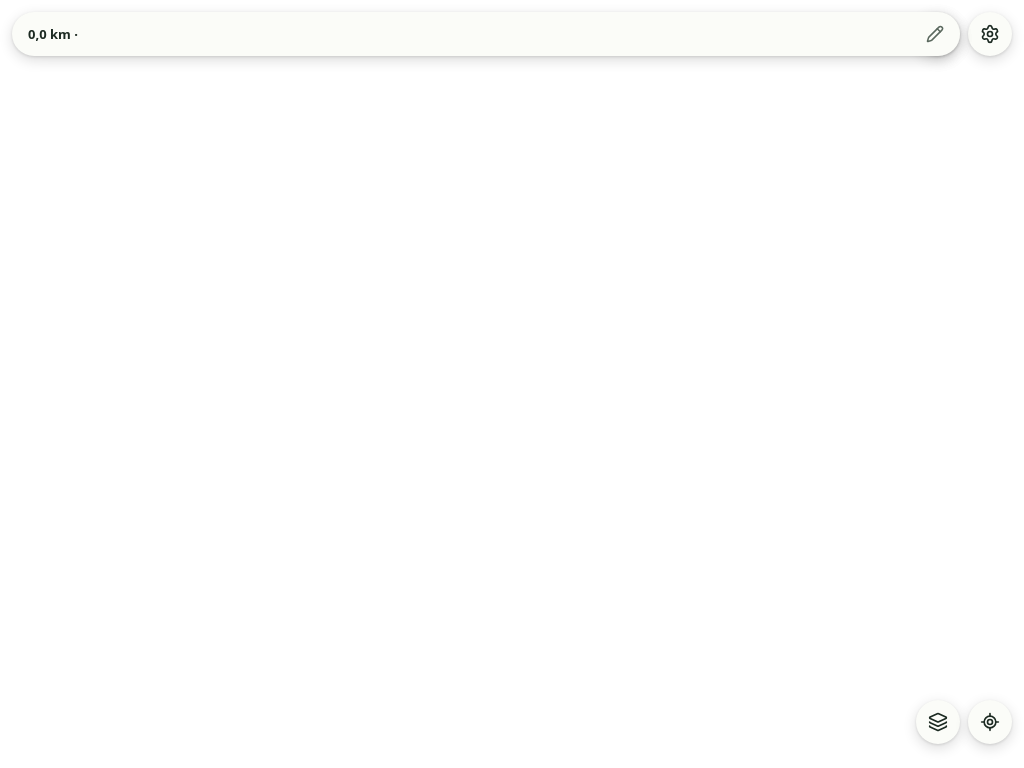
Scenario: CriteriaView › criteria › where the server cannot route › says it in French
This screenshot has width=1024, height=768.
Click the button with test id "criteria-bar". click: {"x": 53, "y": 34}
box: [12, 12, 960, 56]
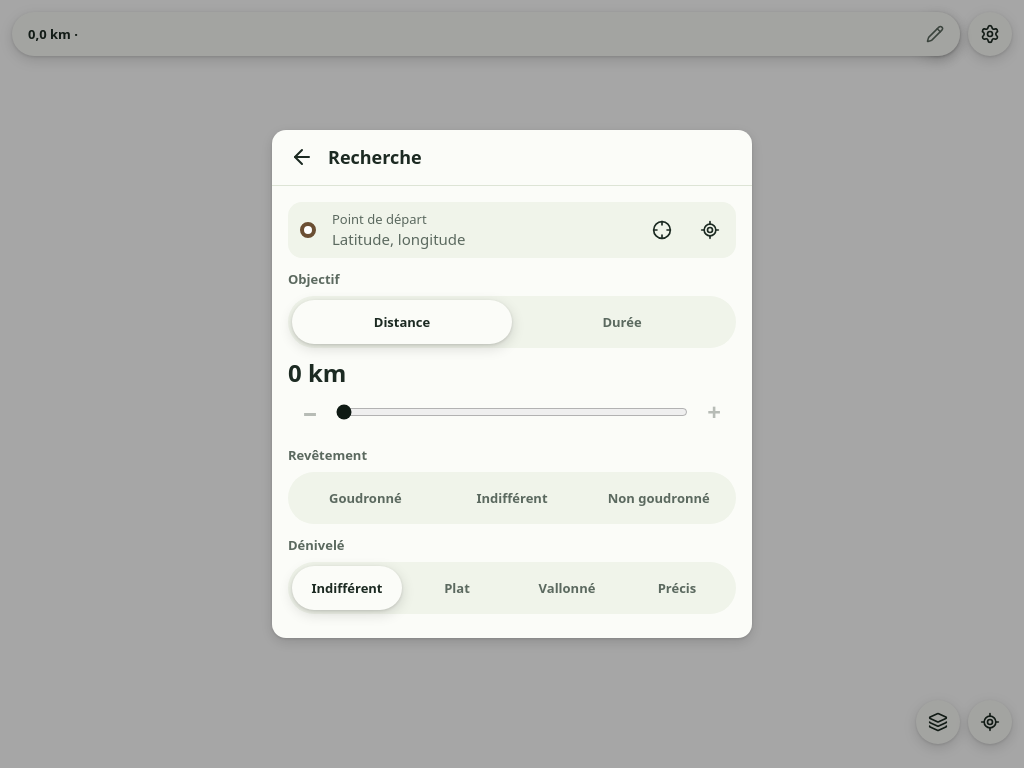
Type "48.8, 2.3" into the field with test id "criteria-start". click: {"x": 478, "y": 239}
box: [332, 228, 624, 250]
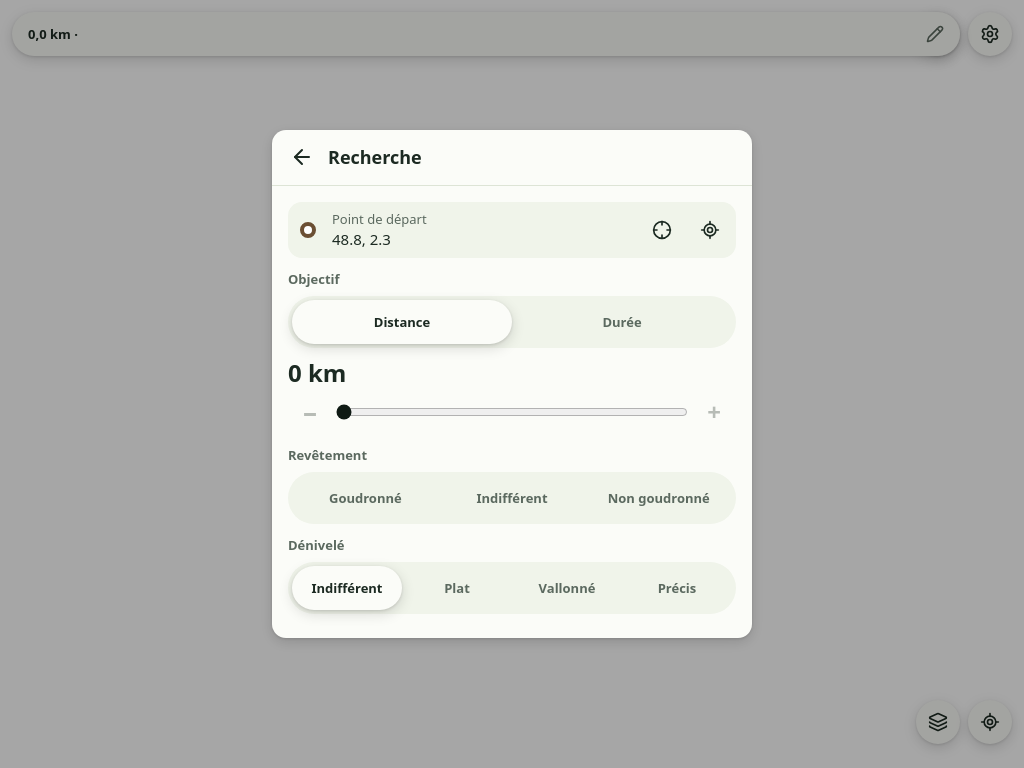
Press Enter in the field with test id "criteria-start", box [332, 228, 624, 250]
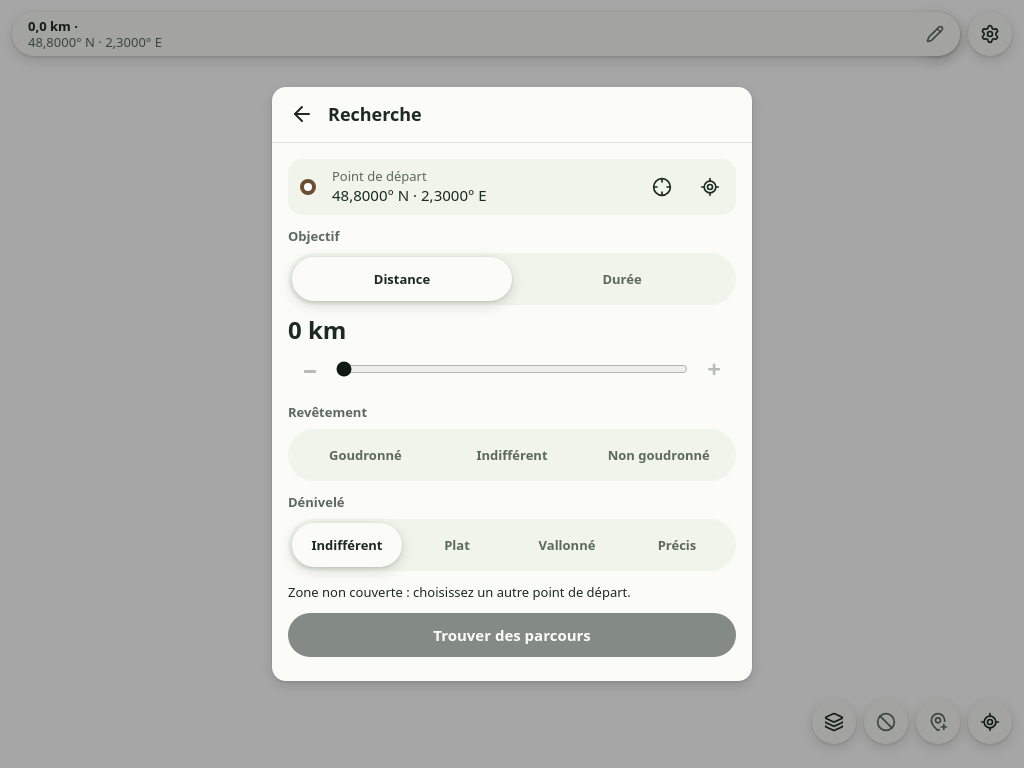
Expected: the message with test id "criteria-uncovered" reads "Zone non couverte : choisissez un autre point de départ.", [288, 583, 631, 601]
